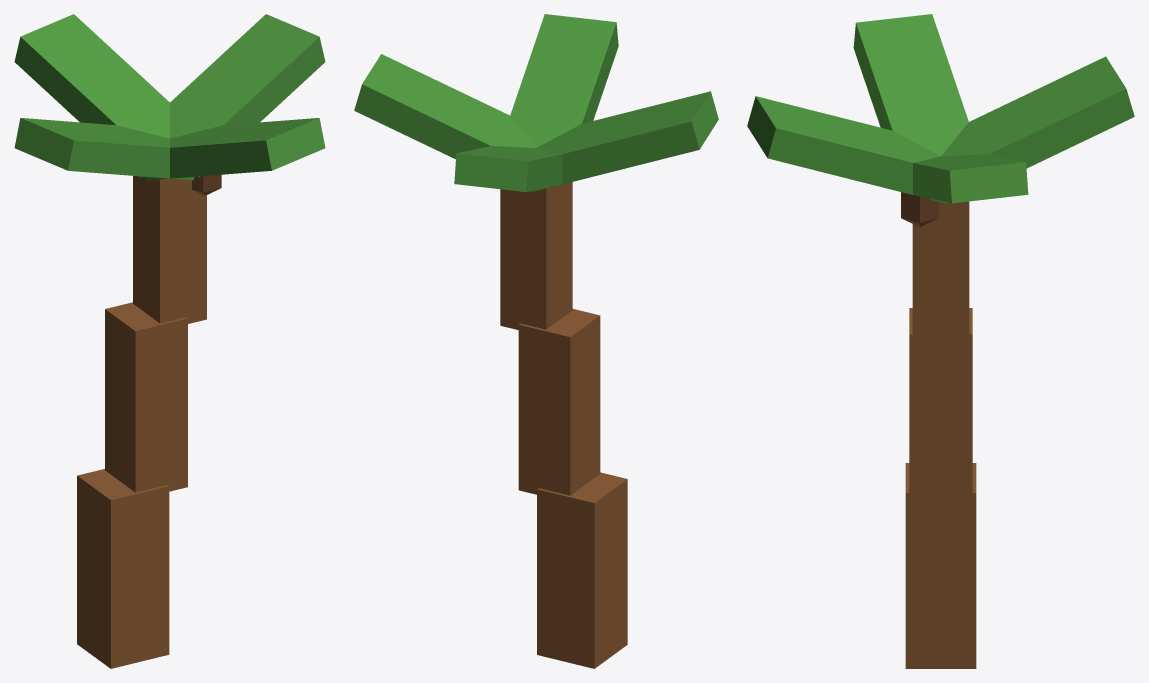
File: env_r13_small_palm.glb
The picture shows the model from 3 angles, left to right: view 1: azimuth 30°, elevation 25°; view 2: azimuth 150°, elevation 25°; view 3: azimuth 270°, elevation 25°; orthographic projection. The views are drawn at different scales.
Parts seen in each view (by area): view 1: env_r13_small_palm; view 2: env_r13_small_palm; view 3: env_r13_small_palm.
Part boxes in pixels (x1,y1,x2,y2): env_r13_small_palm: (14,14,325,668); env_r13_small_palm: (354,14,718,668); env_r13_small_palm: (747,14,1134,668).
Size of the model in its own units: 2.4 by 4 by 2.4.
1 material, 1 textured.
